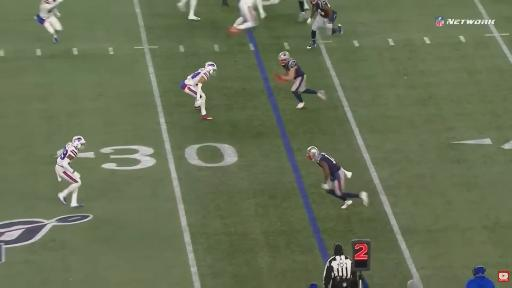Helmet: (72, 136, 85, 149), (307, 146, 319, 160), (205, 62, 216, 75), (279, 52, 289, 64), (311, 0, 317, 4)
Jersey: (316, 153, 341, 181), (57, 143, 78, 167), (185, 68, 210, 85), (283, 59, 305, 78), (314, 0, 333, 21), (39, 0, 58, 19), (239, 0, 256, 7)
Player: (307, 147, 368, 209), (275, 52, 326, 109), (56, 136, 85, 207), (181, 62, 216, 119), (308, 0, 342, 48), (228, 0, 265, 34), (35, 0, 63, 43), (188, 0, 200, 20), (298, 0, 309, 21)
